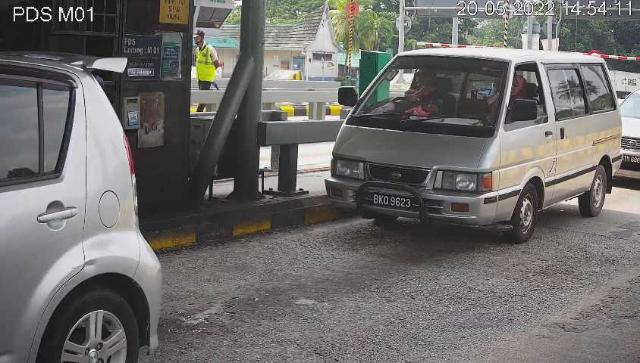License_Plate: (372, 193, 417, 215)
van: (326, 49, 623, 246)
